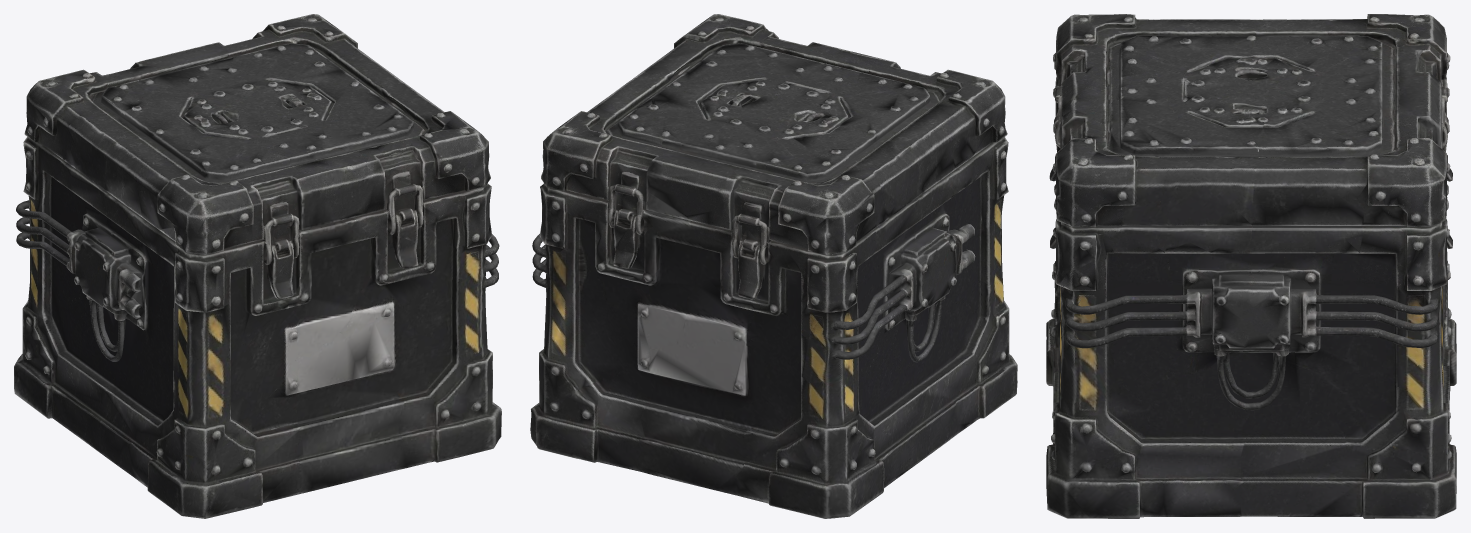
The model's file is caja.glb.
3 views of the same model, side by side, from view 1: azimuth 30°, elevation 25°; view 2: azimuth 150°, elevation 25°; view 3: azimuth 270°, elevation 25° (orthographic). The views are drawn at different scales.
Bounding box in the file's own units: 1.9 × 1.7 × 1.83.
1 material, 1 textured.
